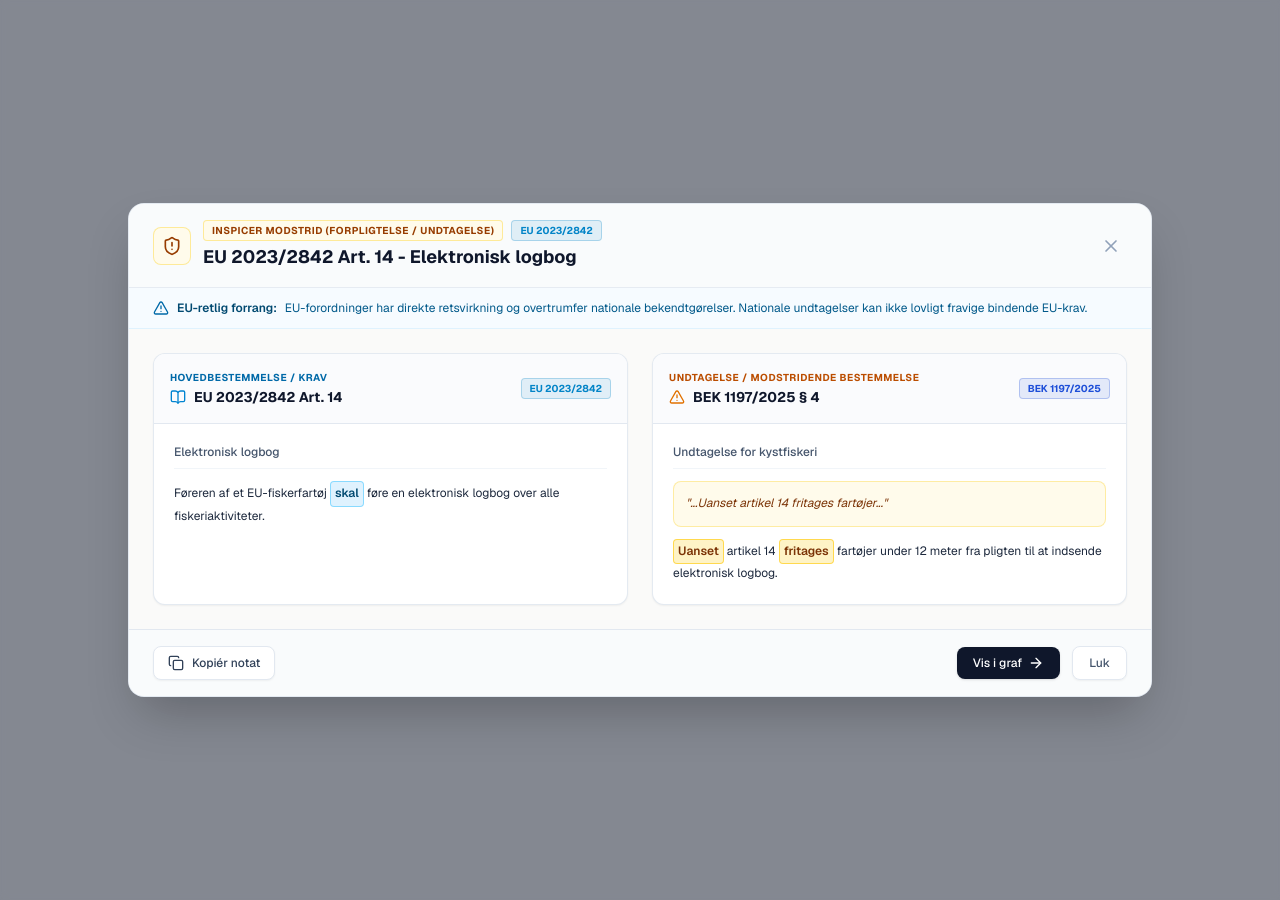
Test: ConflictInspectorModal copy path › confirms the copy to the user
Click the button "Kopiér notat".
click(214, 663)  # box [153,646,275,680]
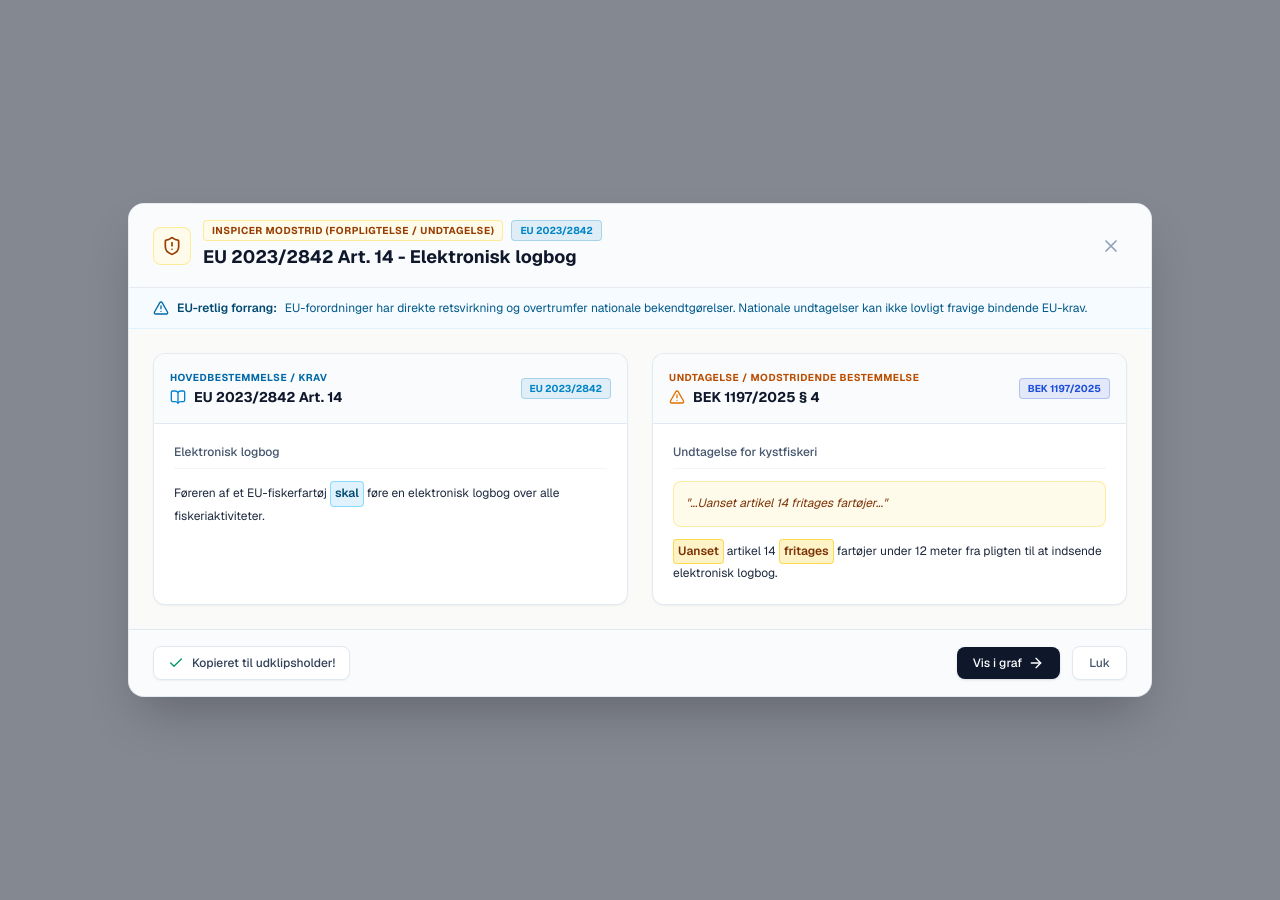
Check: the button "Kopieret til udklipsholder!" is shown, box [153,646,350,680]
